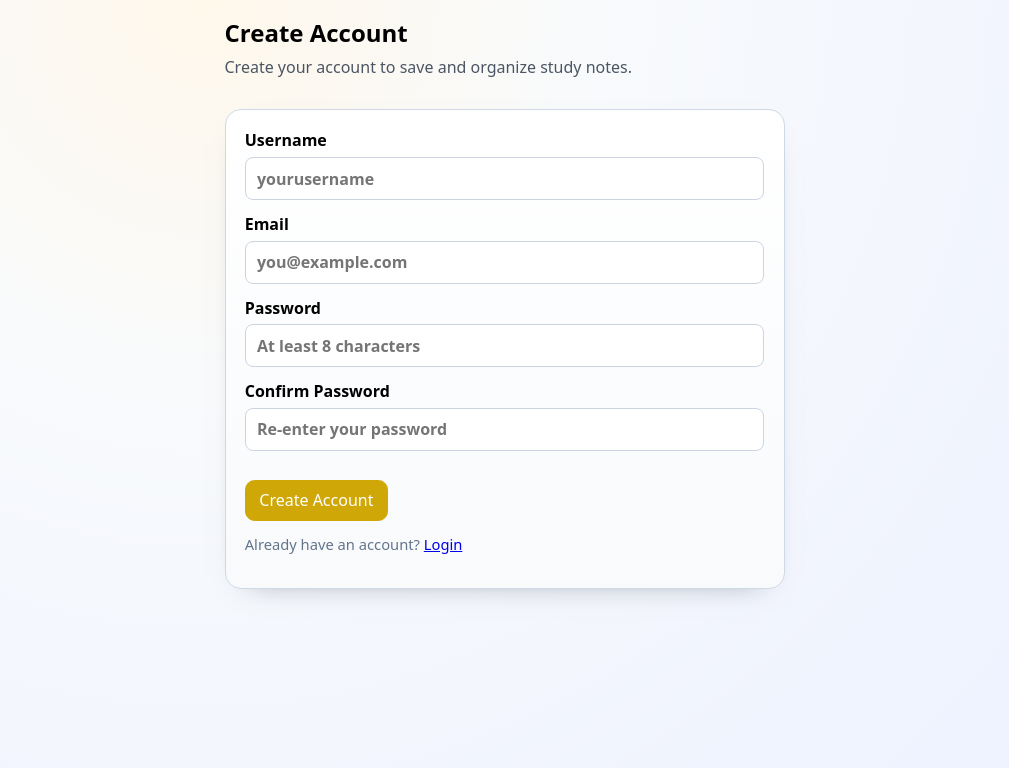
Test: SignupPage › validates email format
The image size is (1024, 768).
Type "testuser" into the field labelled "Username" at (504, 179), box [245, 157, 764, 200]
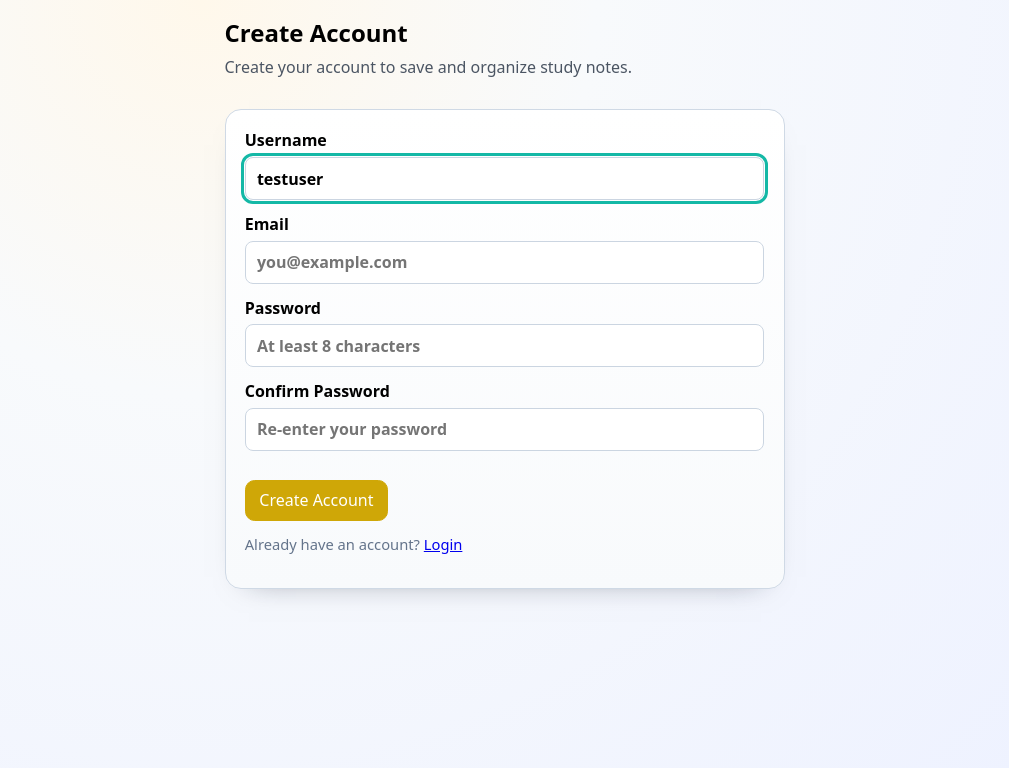
Type "invalidemail" into the field labelled "Email" at (504, 262), box [245, 240, 764, 284]
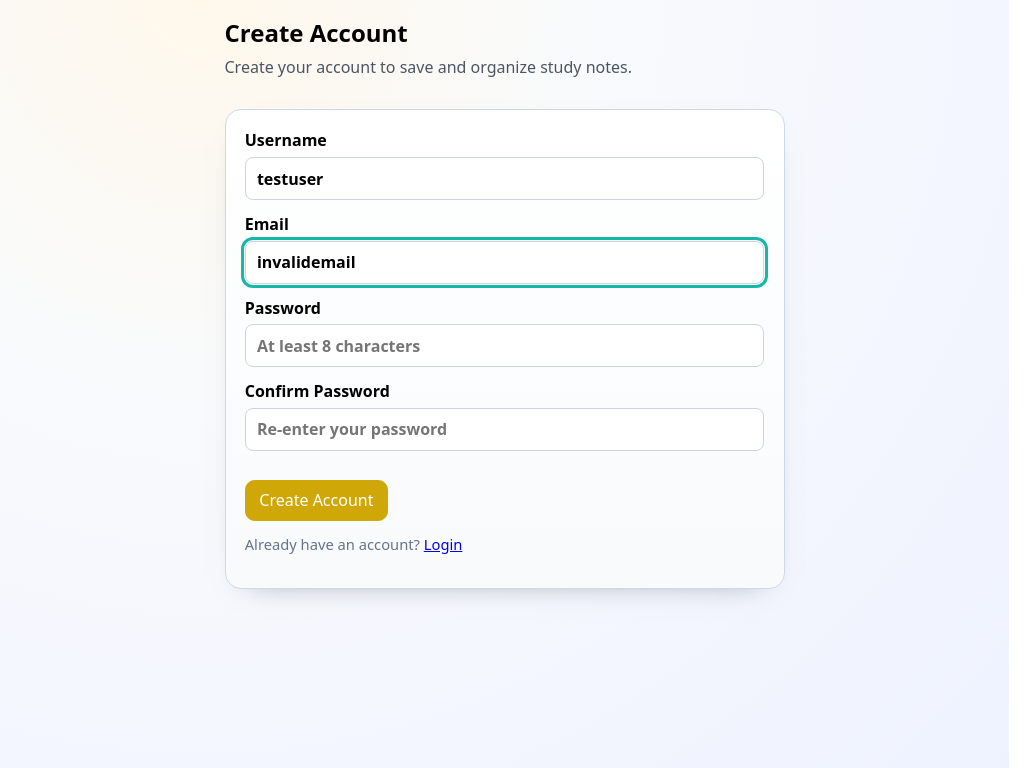
Type "password123" into the password field labelled "Password" at (504, 346), box [245, 324, 764, 367]
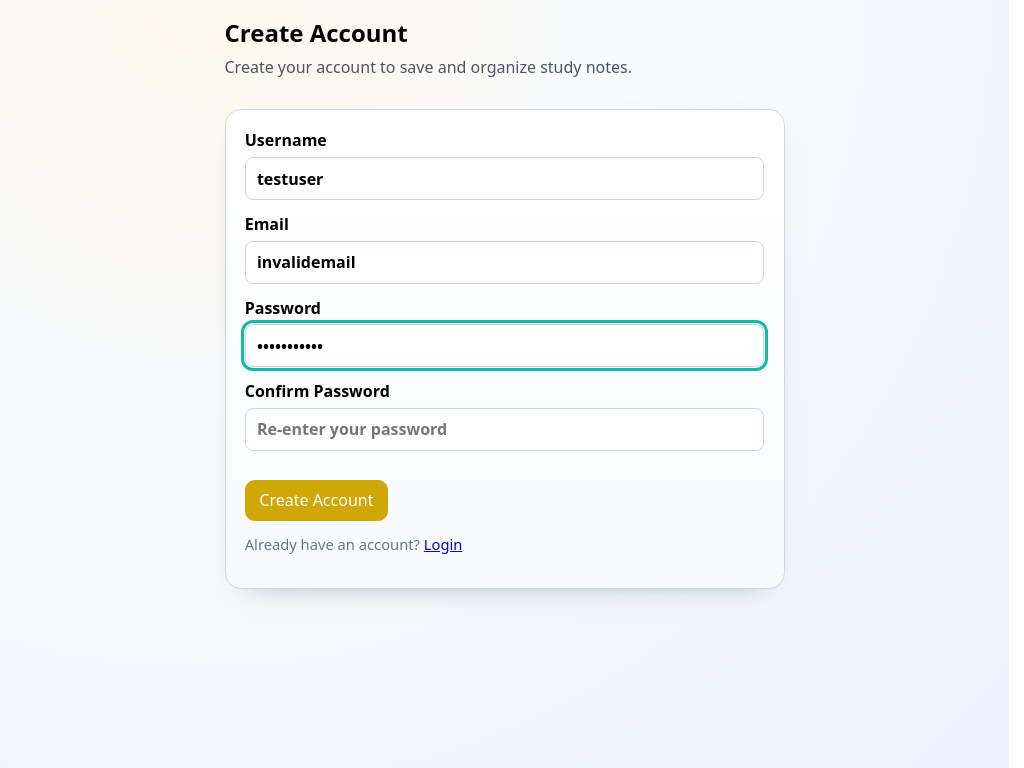
Type "password123" into the password field labelled "Confirm Password" at (504, 429), box [245, 408, 764, 451]
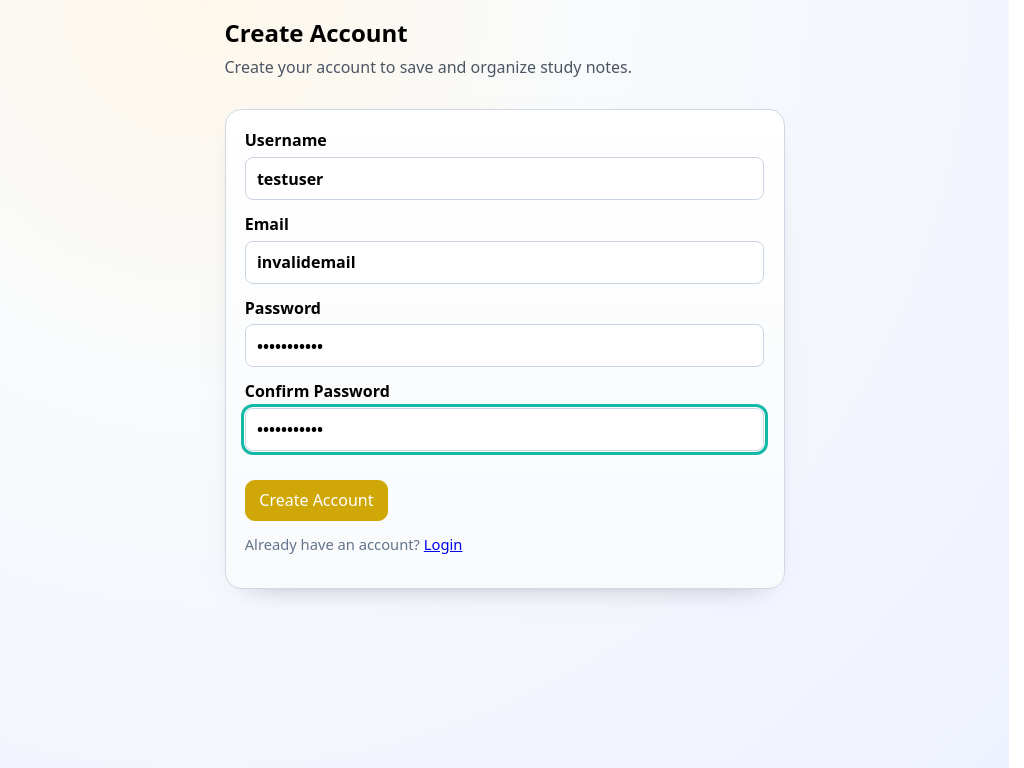
Click the button "Create Account" at (316, 500), box [245, 480, 388, 521]
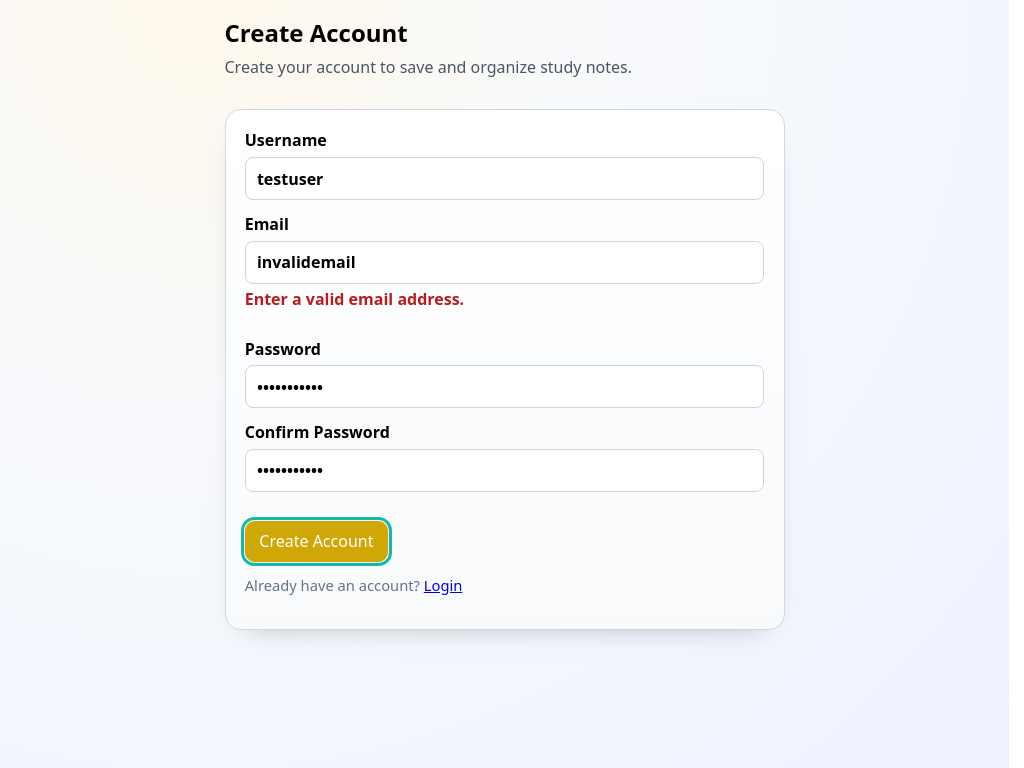
Result: the text "Enter a valid email address." is shown at [245, 288, 464, 310]
